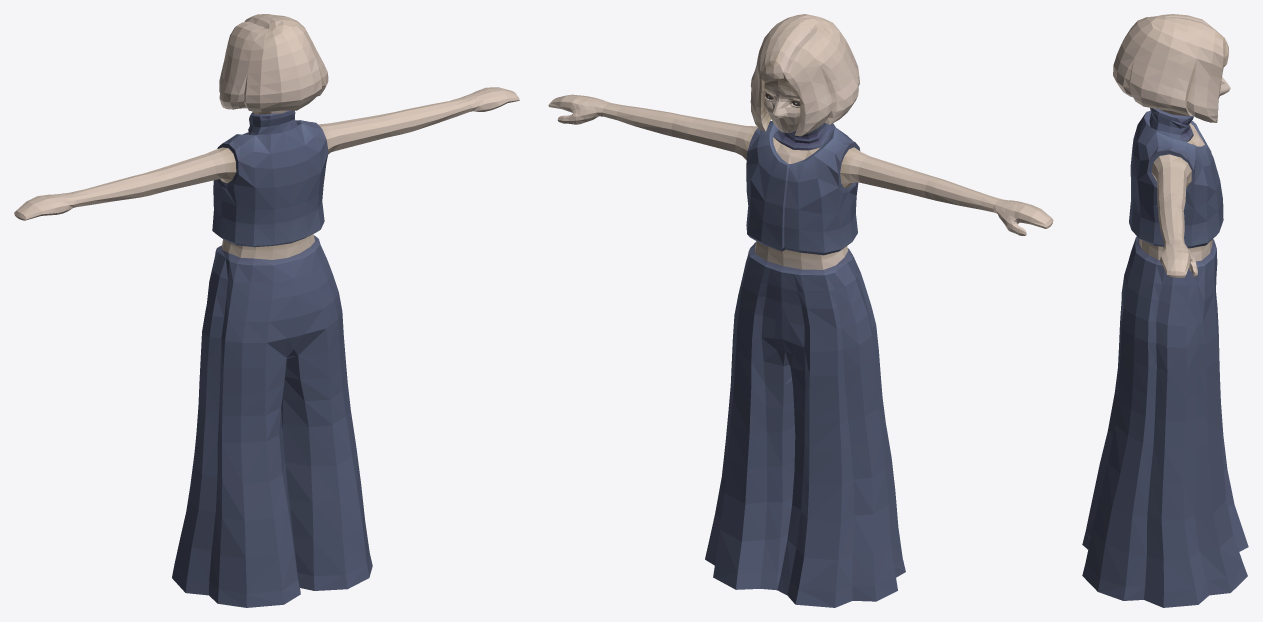
The model's file is CharSkyNPC_Body_AP16SlateRunaway.glb.
3 views of the same model, side by side, from view 1: azimuth 30°, elevation 25°; view 2: azimuth 150°, elevation 25°; view 3: azimuth 270°, elevation 25° (orthographic).
Parts seen in each view (by area): view 1: CharSkyNPC_Body_AP16SlateRunaway; view 2: CharSkyNPC_Body_AP16SlateRunaway; view 3: CharSkyNPC_Body_AP16SlateRunaway.
Part boxes in pixels (x1=…): CharSkyNPC_Body_AP16SlateRunaway: x1=14, y1=14, x2=519, y2=607; CharSkyNPC_Body_AP16SlateRunaway: x1=548, y1=14, x2=1053, y2=607; CharSkyNPC_Body_AP16SlateRunaway: x1=1082, y1=14, x2=1248, y2=607.
Size of the model in its own units: 13.86 by 14.59 by 4.01.
1 material, 1 textured.
